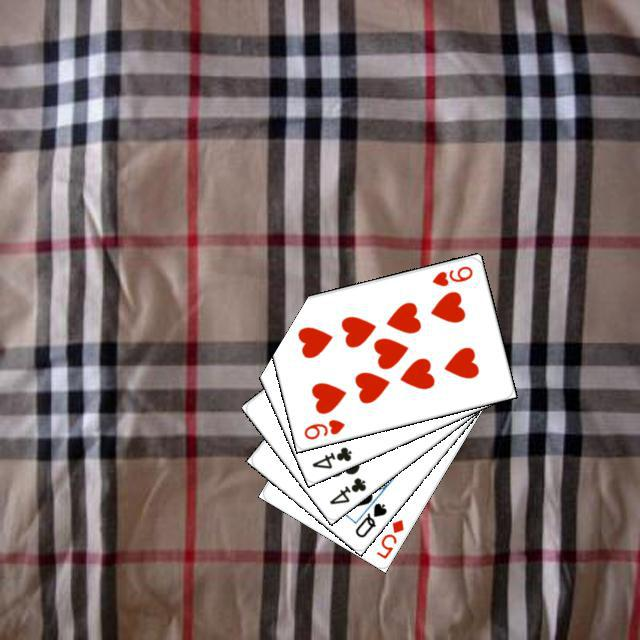4c: (324, 472, 368, 506), (307, 442, 354, 471)
5d: (371, 514, 406, 560)
9h: (299, 414, 347, 441), (427, 261, 474, 288)
Qs: (350, 498, 389, 539)
